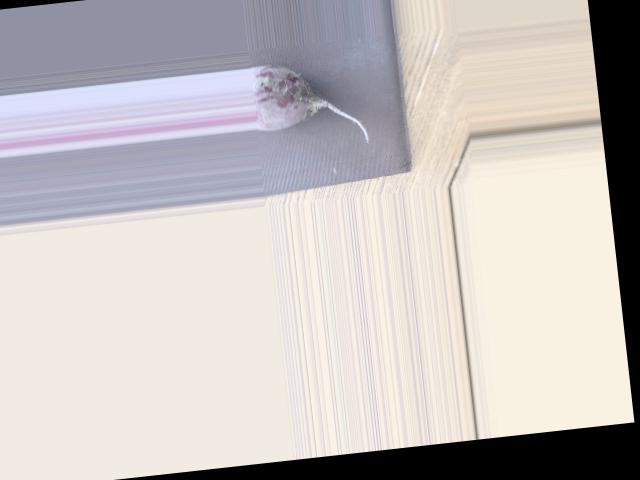beet: (250, 54, 369, 154)
